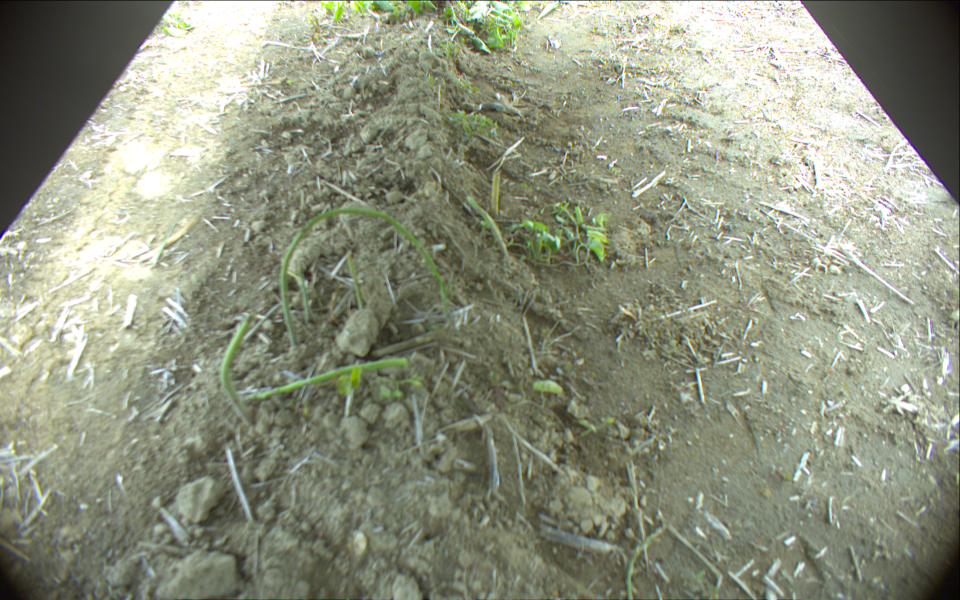aspa: (281, 205, 440, 347), (244, 356, 416, 401), (221, 313, 255, 434), (465, 195, 510, 258), (344, 252, 365, 308), (297, 259, 314, 321), (488, 170, 502, 216)
